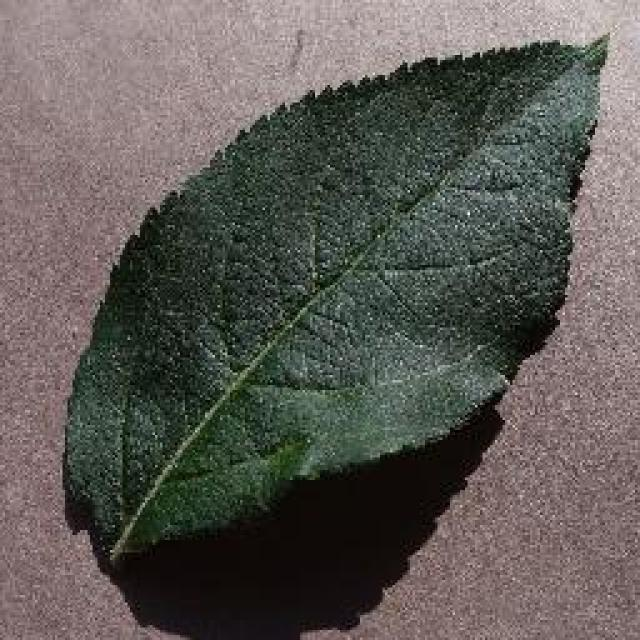apple healthy: (58, 28, 610, 570)
